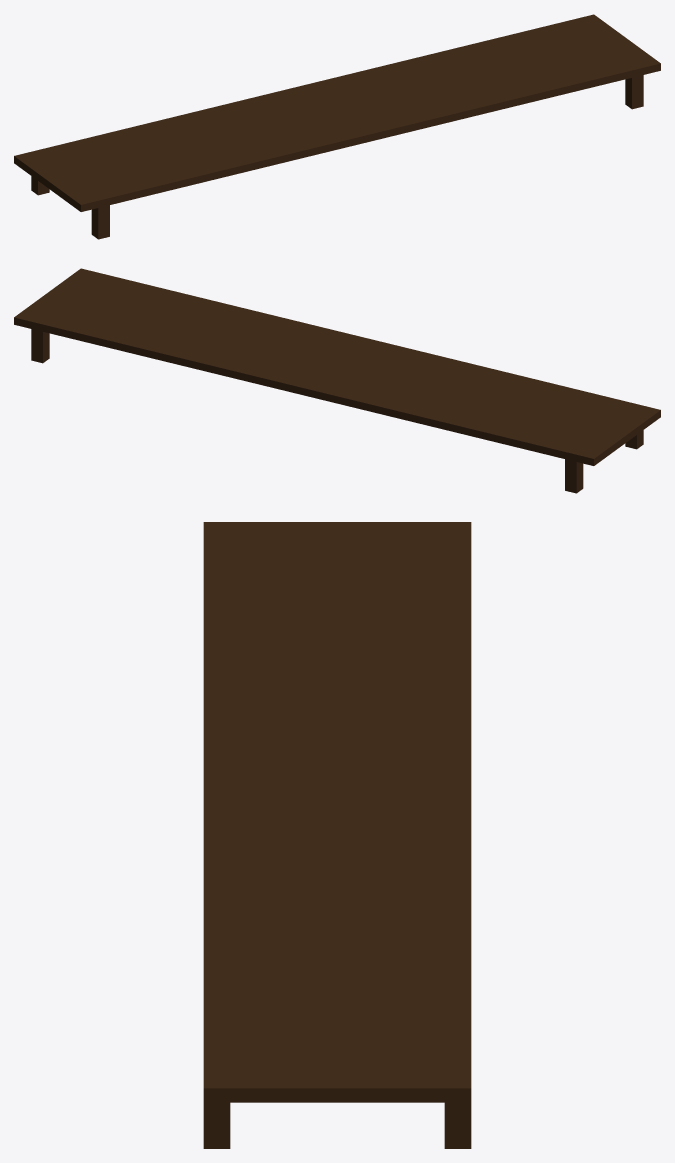
Rendered from bg_swamp_boardwalk_1_lod2.glb.
The picture shows the model from 3 angles, top to bottom: view 1: azimuth 30°, elevation 25°; view 2: azimuth 150°, elevation 25°; view 3: azimuth 270°, elevation 25°; orthographic projection. The views are drawn at different scales.
Parts seen in each view (by area): view 1: body; view 2: body; view 3: body.
Part boxes in pixels (box(x1,y1,x2,y2)): body: box(14, 14, 660, 239); body: box(14, 268, 660, 493); body: box(203, 522, 471, 1148).
Bounding box in the file's own units: 5 × 0.32 × 1.
